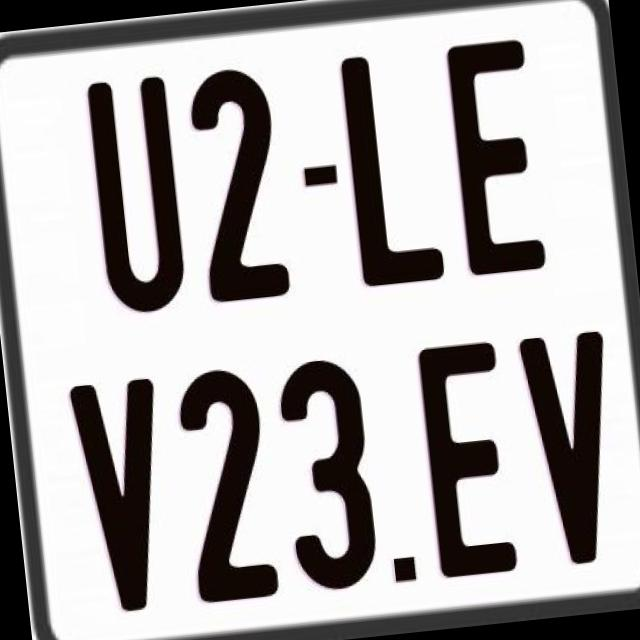2: (185, 61, 297, 303), (176, 362, 284, 603)
3: (272, 352, 379, 592)
E: (442, 37, 552, 282), (414, 340, 517, 584)
L: (338, 46, 444, 290)
U: (85, 71, 191, 313)
V: (516, 326, 632, 572), (64, 374, 176, 622)
